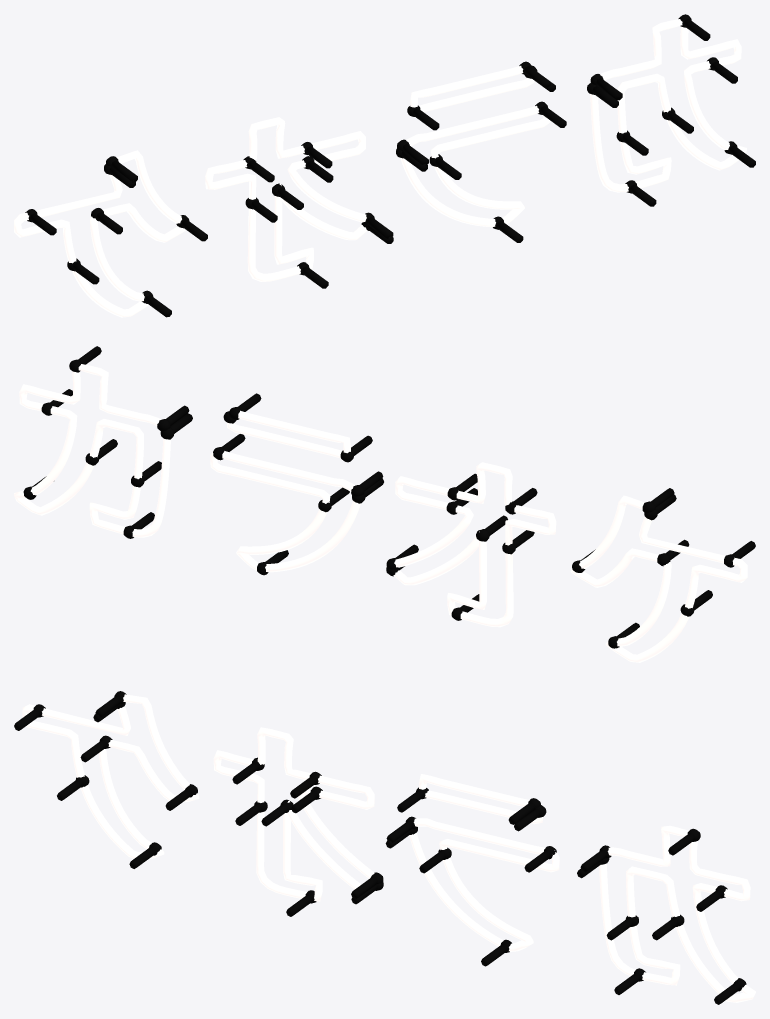
File: neon_karaoke.fbx
3 views of the same model, one above another, from view 1: azimuth 30°, elevation 25°; view 2: azimuth 150°, elevation 25°; view 3: azimuth 330°, elevation 25° (orthographic).
Visible parts, largest first — view 1: NeonEnglish; view 2: NeonEnglish; view 3: NeonEnglish.
Part boxes in pixels (bbox=[...]): NeonEnglish: bbox=[14, 14, 755, 317]; NeonEnglish: bbox=[14, 346, 755, 662]; NeonEnglish: bbox=[14, 691, 755, 1004].
Bounding box in the file's own units: 363 × 79.78 × 21.29.
